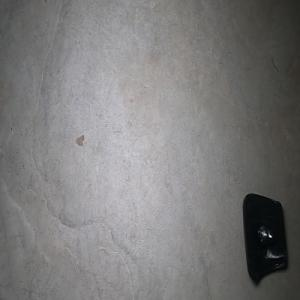LuggagePart: (241, 191, 288, 286)
